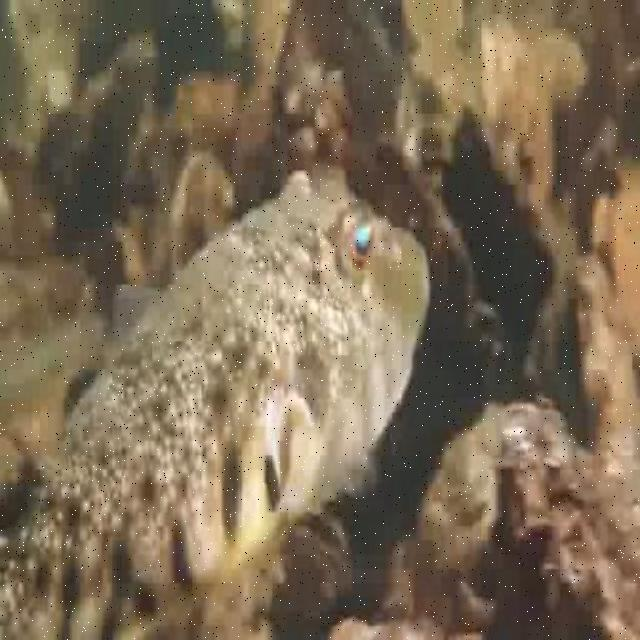Oyster-Closed: (410, 403, 640, 640), (57, 34, 159, 243), (575, 251, 640, 487), (167, 144, 242, 279), (273, 510, 355, 622), (609, 184, 640, 344)
Oyster-Open: (365, 113, 571, 402)
